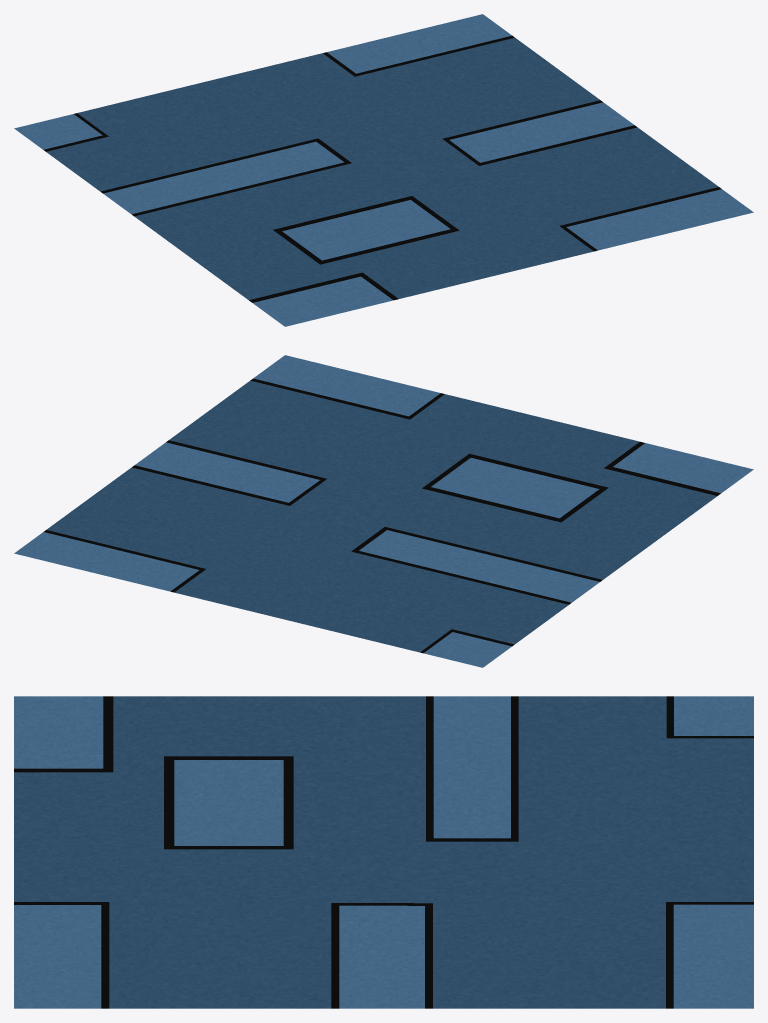
The model's file is Elcetronics Floor.fbx.
3 renders of one model, top to bottom at view 1: azimuth 30°, elevation 25°; view 2: azimuth 150°, elevation 25°; view 3: azimuth 270°, elevation 25°, orthographic. The views are drawn at different scales.
Visible parts, largest first — view 1: Object085; view 2: Object085; view 3: Object085.
Boxes of the visible parts, x1,y1,x2,y2 form: Object085: (14, 14, 753, 326); Object085: (14, 355, 753, 667); Object085: (14, 696, 753, 1008).
Size of the model in its own units: 350 by 2.15e-14 by 351.
1 material, 1 textured.
